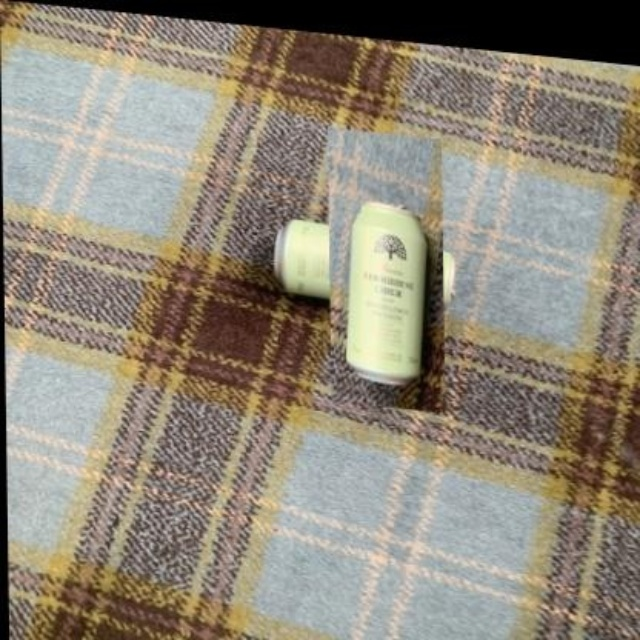trash: (346, 202, 425, 383), (274, 220, 329, 297)
